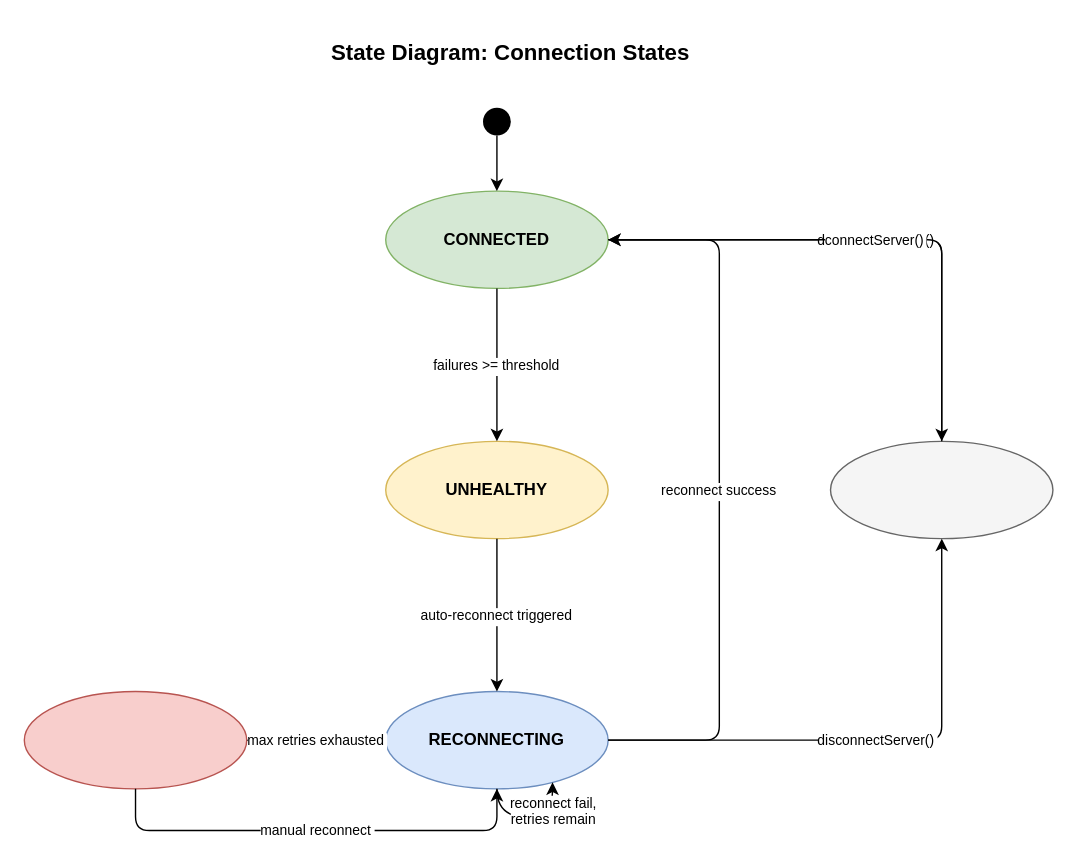
This 1077x866 diagram has some shape labels left out. Each missing label, with the box of its shape:
DISCONNECTED: (829, 440, 1053, 539)
FAILED: (23, 690, 247, 789)
